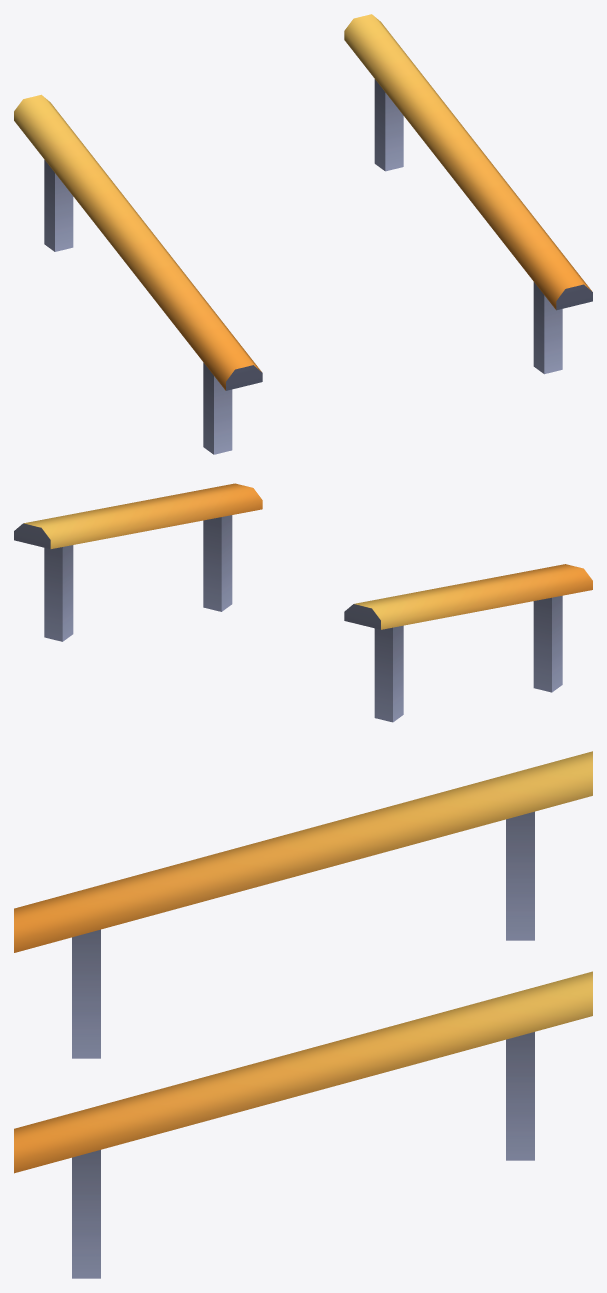
The model's file is kenney-space-station-stairs-handrail.glb.
3 renders of one model, top to bottom at view 1: azimuth 30°, elevation 25°; view 2: azimuth 150°, elevation 25°; view 3: azimuth 270°, elevation 25°, orthographic. The views are drawn at different scales.
Visible parts, largest first — view 1: stairs-handrail; view 2: stairs-handrail; view 3: stairs-handrail.
Boxes of the visible parts, box(x1,y1,x2,y2) form: stairs-handrail: box(14, 14, 592, 454); stairs-handrail: box(14, 483, 592, 722); stairs-handrail: box(14, 751, 592, 1278).
Bounding box in the file's own units: 1 × 0.5625 × 1.
Materials: 1 (1 with a texture image).
